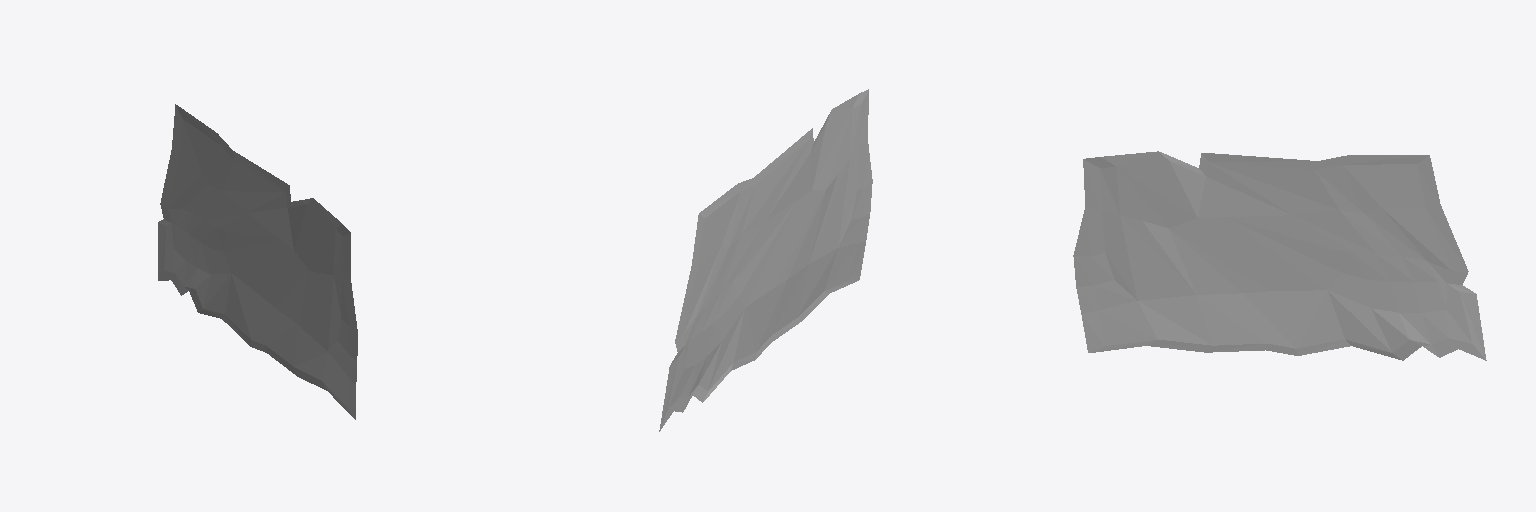
The model's file is StatBoardPaperOnly.obj.
3 views of the same model, side by side, from view 1: azimuth 30°, elevation 25°; view 2: azimuth 150°, elevation 25°; view 3: azimuth 270°, elevation 25° (orthographic).
Parts seen in each view (by area): view 1: Dartboard; view 2: Dartboard; view 3: Dartboard.
Part boxes in pixels (left/top/right/bottom): Dartboard: left=158, top=104, right=357, bottom=419; Dartboard: left=659, top=89, right=872, bottom=431; Dartboard: left=1073, top=151, right=1486, bottom=360.
Size of the model in its own units: 0.1315 by 2.32 by 4.21.